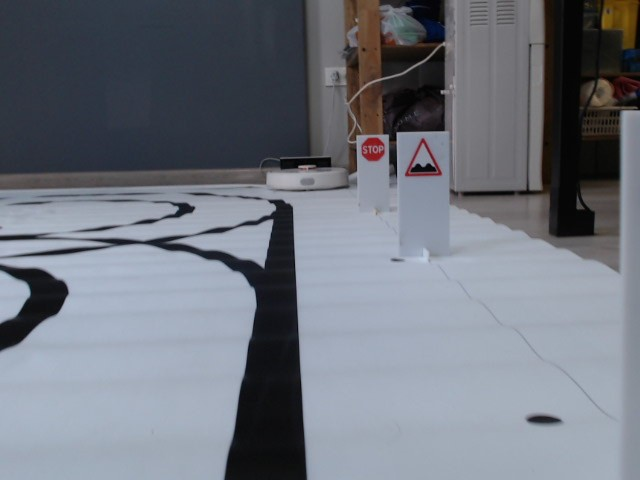Nerov: (403, 138, 444, 176)
Stop: (360, 136, 385, 162)
